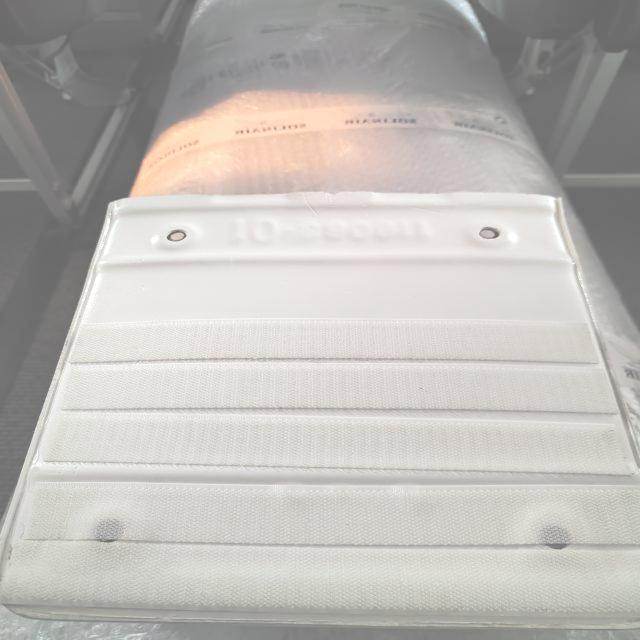Missing Fastener: (522, 491, 586, 572), (82, 501, 138, 564), (468, 216, 510, 246), (156, 225, 197, 247)
